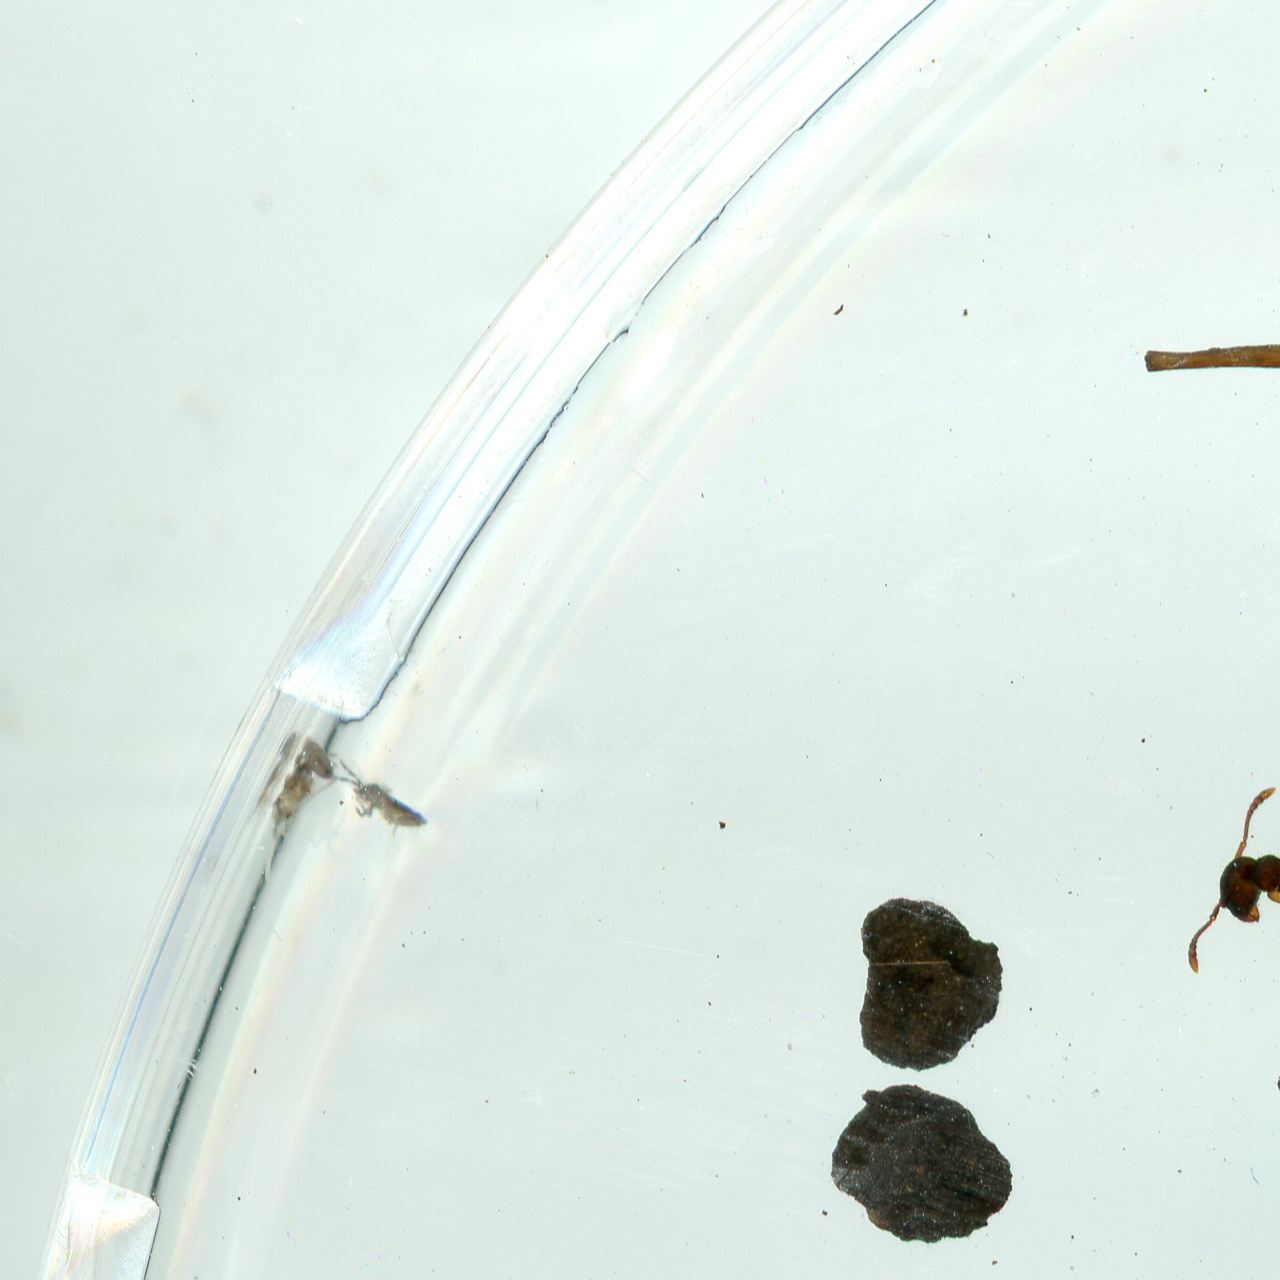arthropod: (1138, 769, 1280, 1065), (308, 751, 450, 858)
